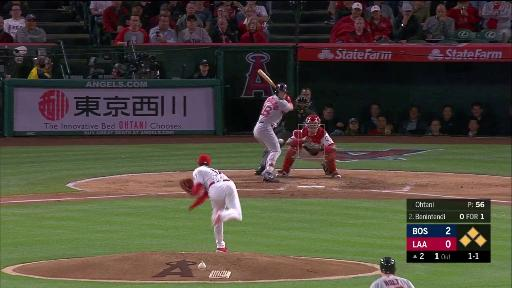pitcher: (180, 155, 246, 252)
